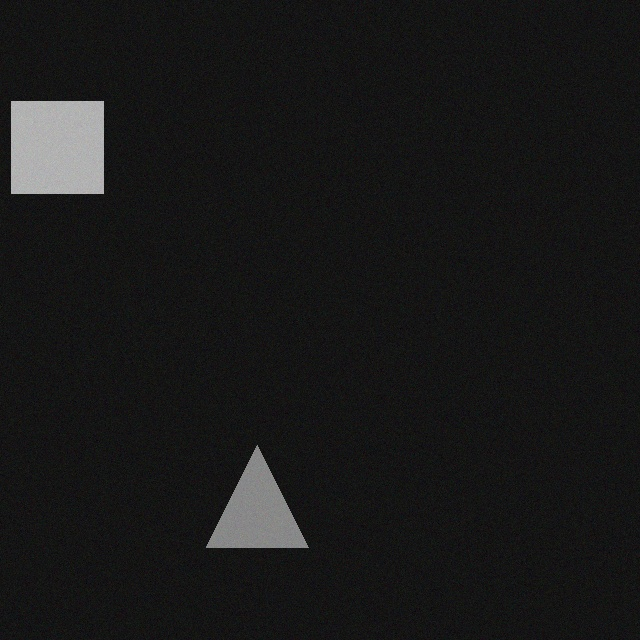square: (16, 108, 108, 200)
triangle: (211, 452, 313, 554)
